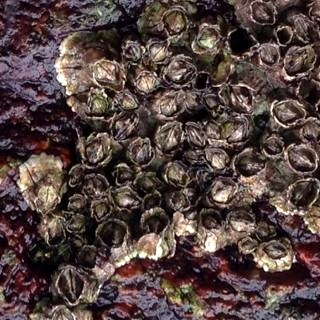Barnacle: (224, 86, 254, 116), (284, 144, 316, 172), (268, 101, 302, 127), (285, 45, 312, 77), (112, 112, 138, 143), (209, 177, 236, 206), (290, 179, 316, 208), (57, 271, 81, 302), (157, 122, 180, 153), (166, 59, 192, 86), (93, 61, 120, 87), (83, 137, 109, 164), (101, 220, 125, 249), (236, 151, 262, 177), (81, 174, 105, 202), (111, 186, 140, 209), (32, 184, 55, 212), (263, 240, 291, 263), (195, 27, 220, 52), (293, 17, 317, 43), (134, 69, 157, 96), (229, 209, 252, 235), (165, 9, 187, 35), (250, 2, 273, 25), (144, 212, 167, 235), (44, 219, 63, 246), (161, 93, 182, 117), (226, 121, 246, 145), (257, 44, 278, 66), (88, 95, 109, 117), (130, 141, 152, 162), (149, 40, 168, 64), (262, 136, 283, 157), (136, 172, 158, 192), (115, 89, 138, 108), (208, 151, 228, 172), (166, 164, 187, 184), (205, 92, 224, 112), (115, 164, 135, 183), (80, 248, 98, 269), (205, 119, 223, 139), (123, 43, 141, 62), (202, 214, 221, 232), (172, 191, 189, 211), (67, 196, 85, 214), (238, 236, 257, 253), (303, 122, 319, 142), (187, 127, 203, 147), (185, 92, 203, 109), (67, 167, 82, 186), (143, 192, 159, 209), (68, 218, 86, 233), (95, 201, 109, 220), (67, 236, 83, 251), (184, 209, 197, 222)
